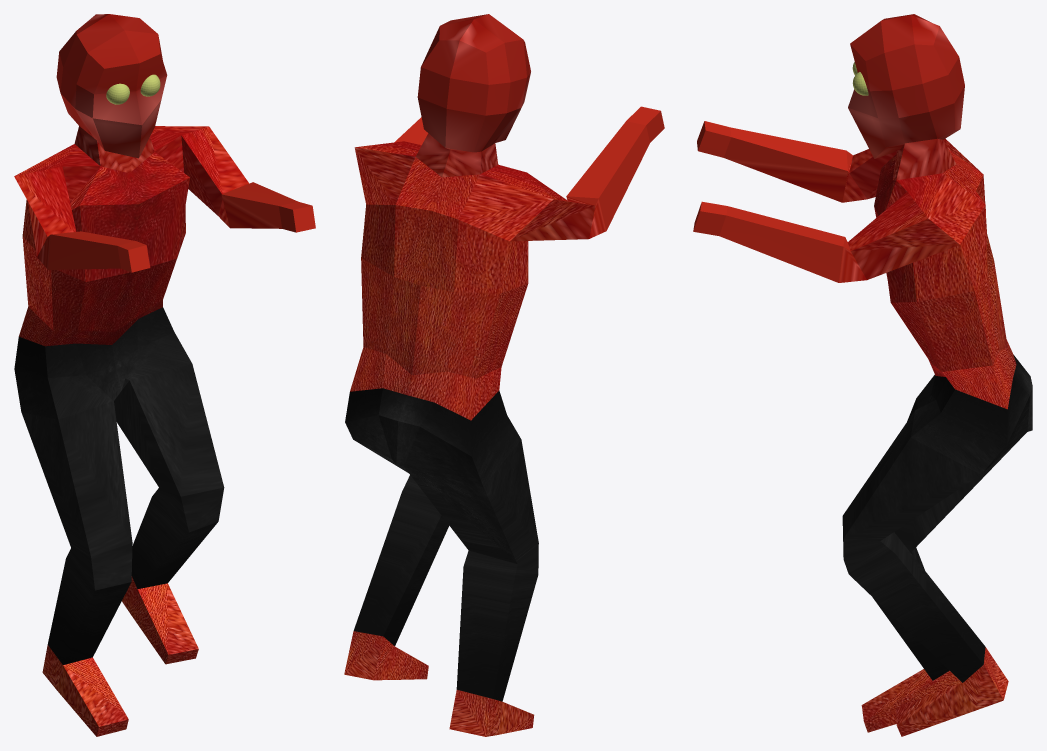
Rendered from laySheary_000010.obj.
3 views of the same model, side by side, from view 1: azimuth 30°, elevation 25°; view 2: azimuth 150°, elevation 25°; view 3: azimuth 270°, elevation 25° (orthographic). The views are drawn at different scales.
Parts seen in each view (by area): view 1: Cube; view 2: Cube; view 3: Cube.
Boxes of the visible parts, x1,y1,x2,y2 form: Cube: (14, 14, 315, 736); Cube: (344, 14, 664, 736); Cube: (693, 14, 1032, 736).
Bounding box in the file's own units: 5.07 × 15.99 × 6.83.
3 materials, 2 textured.
